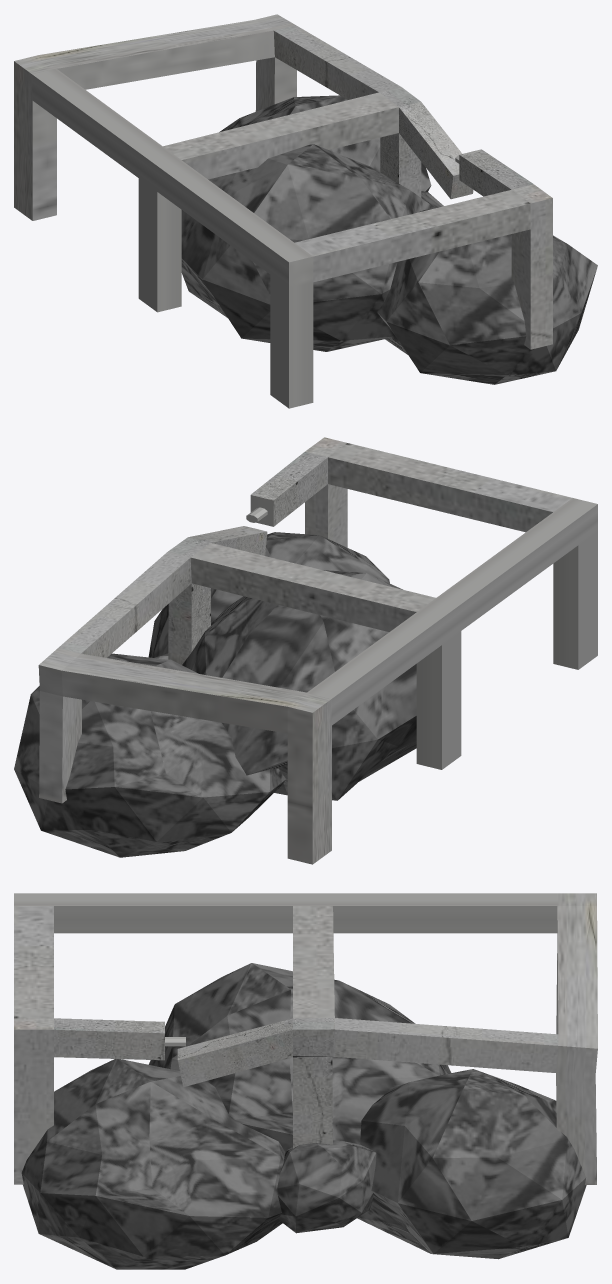
File: BrokenBuilding.glb
3 views of the same model, one above another, from view 1: azimuth 30°, elevation 25°; view 2: azimuth 150°, elevation 25°; view 3: azimuth 270°, elevation 25° (orthographic). The views are drawn at different scales.
Visible parts, largest first — view 1: Icosphere.003; view 2: Icosphere.003; view 3: Icosphere.003.
Boxes of the visible parts, bbox=[...] form: Icosphere.003: bbox=[14, 14, 597, 408]; Icosphere.003: bbox=[14, 437, 597, 864]; Icosphere.003: bbox=[14, 893, 597, 1269].
Size of the model in its own units: 21.43 by 13.55 by 29.44.
1 material, 1 textured.
